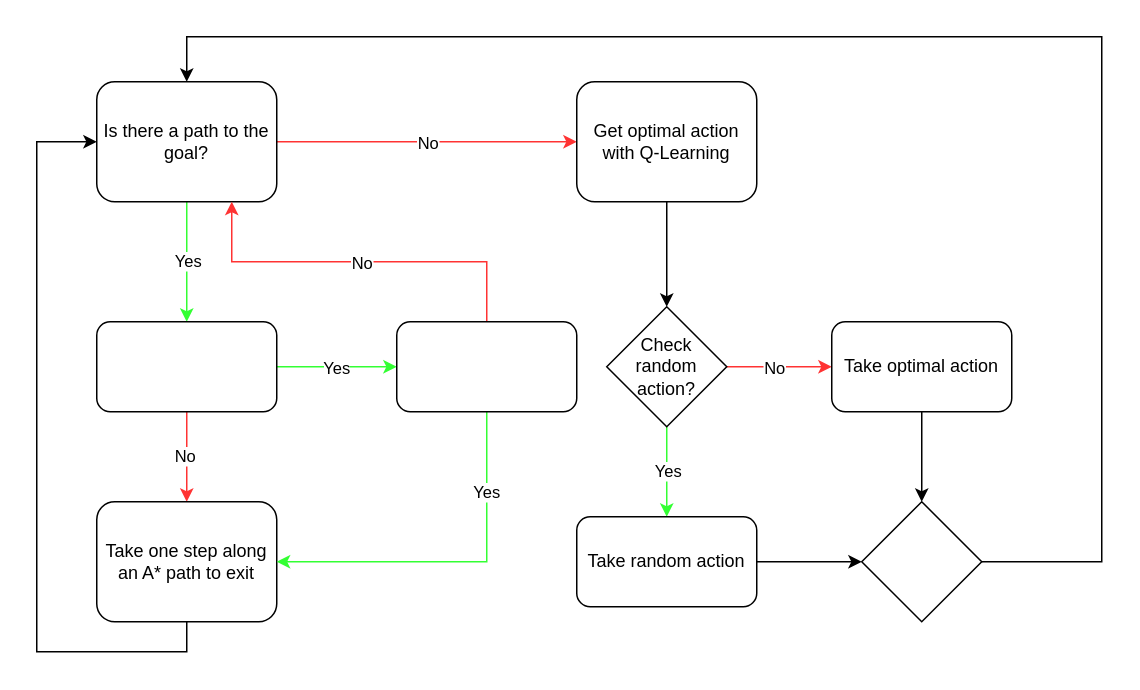
The diagram is 1140 pixels wide and 690 high, and some of its shapes have lost their labels. Each missing label, with the centre of its shape:
Are there monsters in the world?: point 186,366
Is the character closer to the goal than any monster?: point 486,366
Update Weights: point 921,561
